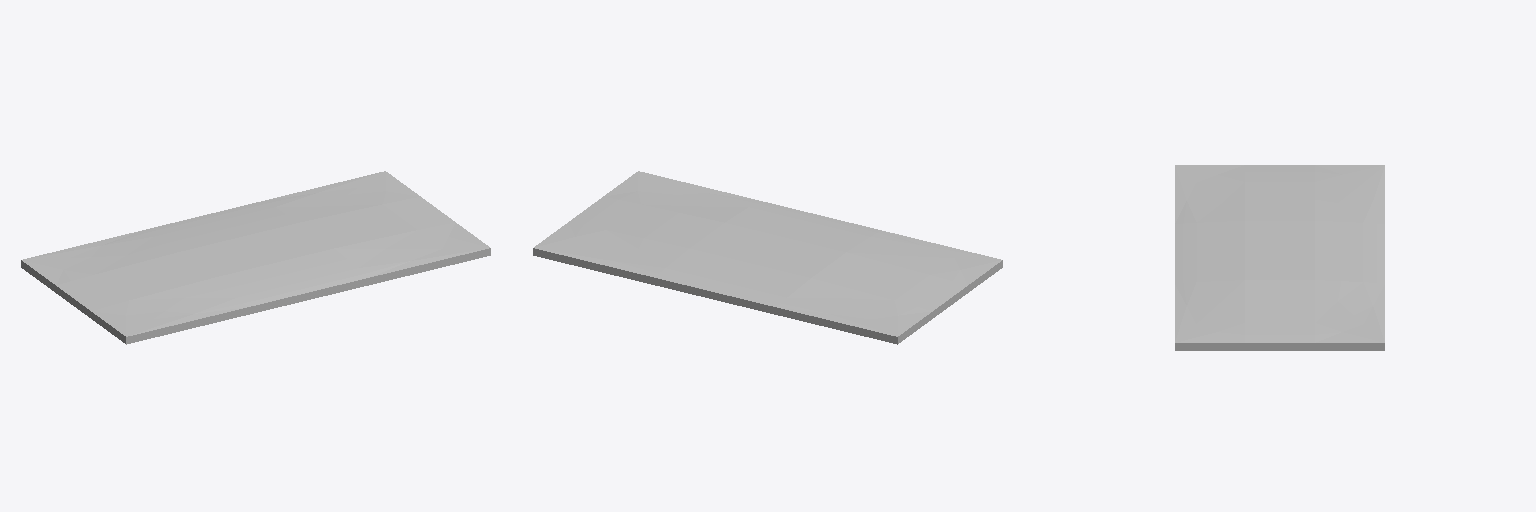
The model's file is TopRight.obj.
The picture shows the model from 3 angles: view 1: azimuth 30°, elevation 25°; view 2: azimuth 150°, elevation 25°; view 3: azimuth 270°, elevation 25°; orthographic projection.
Visible parts, largest first — view 1: BottomR_Cube.009, BottomM_Cube.010, BottomL_Cube.008, MiddleR_Cube.001, TopR_Cube.007, Middle_Cube.006, MiddleL_Cube.005, TopL_Cube.003, TopM_Cube.002; view 2: TopR_Cube.007, TopM_Cube.002, TopL_Cube.003, MiddleR_Cube.001, BottomR_Cube.009, Middle_Cube.006, MiddleL_Cube.005, BottomL_Cube.008, BottomM_Cube.010; view 3: MiddleL_Cube.005, BottomL_Cube.008, TopL_Cube.003, BottomM_Cube.010, TopM_Cube.002, Middle_Cube.006, BottomR_Cube.009, TopR_Cube.007, MiddleR_Cube.001.
Part boxes in pixels (bbox=[...]): BottomR_Cube.009: bbox=[91, 278, 247, 344]; BottomM_Cube.010: bbox=[213, 249, 368, 314]; BottomL_Cube.008: bbox=[334, 222, 490, 284]; MiddleR_Cube.001: bbox=[56, 252, 211, 317]; TopR_Cube.007: bbox=[21, 230, 176, 292]; Middle_Cube.006: bbox=[178, 223, 333, 277]; MiddleL_Cube.005: bbox=[300, 197, 454, 247]; TopL_Cube.003: bbox=[265, 171, 420, 222]; TopM_Cube.002: bbox=[143, 201, 298, 251]; TopR_Cube.007: bbox=[776, 278, 932, 344]; TopM_Cube.002: bbox=[655, 249, 810, 314]; TopL_Cube.003: bbox=[533, 222, 689, 284]; MiddleR_Cube.001: bbox=[812, 252, 967, 317]; BottomR_Cube.009: bbox=[847, 230, 1002, 292]; Middle_Cube.006: bbox=[690, 223, 845, 277]; MiddleL_Cube.005: bbox=[569, 197, 723, 247]; BottomL_Cube.008: bbox=[603, 171, 758, 222]; BottomM_Cube.010: bbox=[725, 201, 880, 251]; MiddleL_Cube.005: bbox=[1245, 280, 1314, 350]; BottomL_Cube.008: bbox=[1175, 280, 1244, 350]; TopL_Cube.003: bbox=[1315, 280, 1384, 350]; BottomM_Cube.010: bbox=[1175, 221, 1244, 283]; TopM_Cube.002: bbox=[1315, 221, 1384, 283]; Middle_Cube.006: bbox=[1245, 221, 1314, 279]; BottomR_Cube.009: bbox=[1175, 165, 1244, 223]; TopR_Cube.007: bbox=[1315, 165, 1384, 223]; MiddleR_Cube.001: bbox=[1245, 165, 1314, 220].
Bounding box in the file's own units: 75 × 2.19 × 37.5.